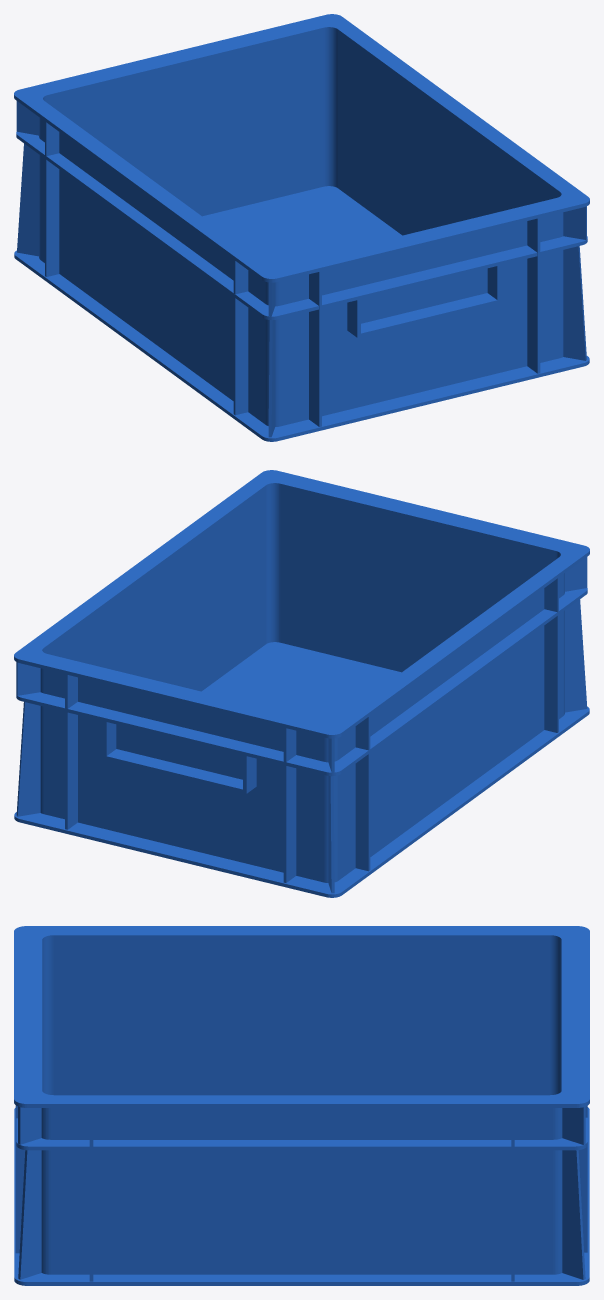
3 views of the same model, one above another, from view 1: azimuth 30°, elevation 25°; view 2: azimuth 150°, elevation 25°; view 3: azimuth 270°, elevation 25° (orthographic). The views are drawn at different scales.
Parts seen in each view (by area): view 1: Box; view 2: Box; view 3: Box.
Part boxes in pixels (x1=…): Box: x1=14, y1=14, x2=589, y2=441; Box: x1=14, y1=470, x2=589, y2=897; Box: x1=14, y1=926, x2=589, y2=1285.
Size of the model in its own units: 0.657 by 0.8989 by 0.3135.
